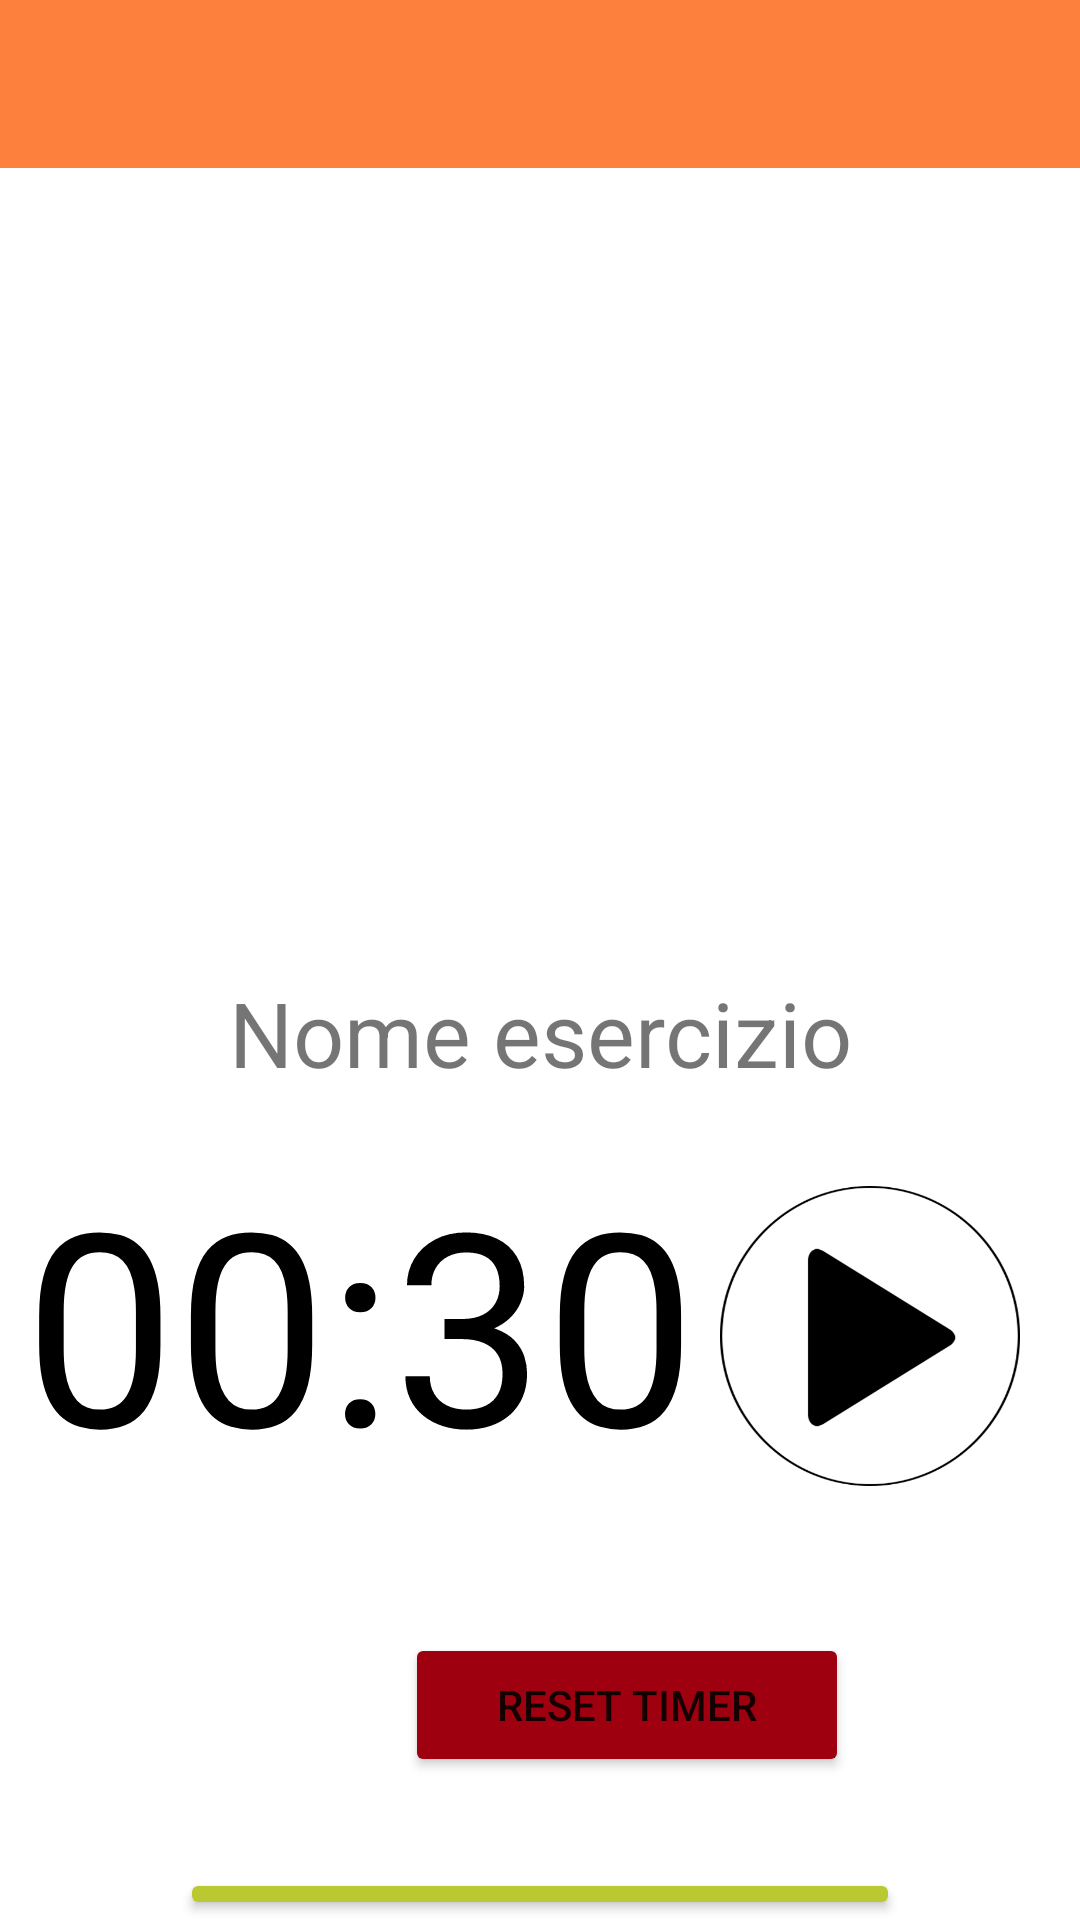

Point at icon controls on the screen. Image size 1080px x 1920px, points as point (x, y).
Riparti: point (870, 1336)
